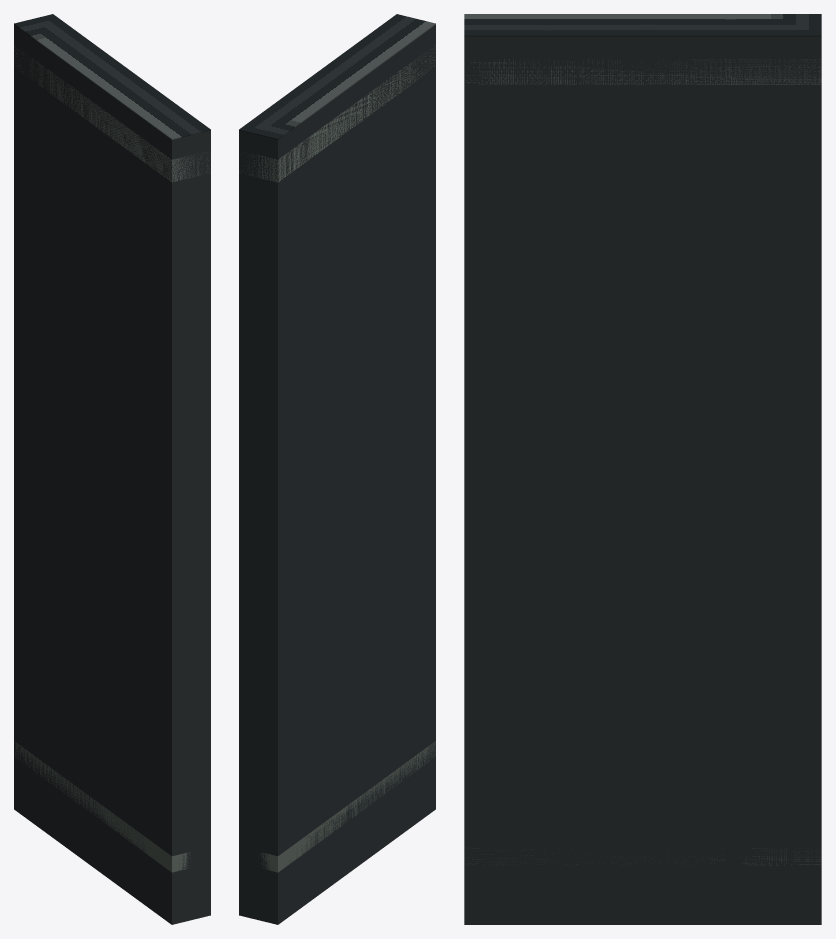
The model's file is CMU3DInteriorVehicleAPCCornerSmallR.glb.
The picture shows the model from 3 angles, left to right: view 1: azimuth 30°, elevation 25°; view 2: azimuth 150°, elevation 25°; view 3: azimuth 270°, elevation 25°; orthographic projection. The views are drawn at different scales.
Parts seen in each view (by area): view 1: cabin bulkhead, cabin bulkhead source finish, upper armor trim, lower armor trim; view 2: cabin bulkhead, cabin bulkhead source finish, upper armor trim, lower armor trim; view 3: cabin bulkhead, cabin bulkhead source finish, upper armor trim.
Part boxes in pixels (box(x1,y1,x2,y2)): cabin bulkhead: box(14, 25, 210, 924); cabin bulkhead source finish: box(14, 14, 210, 139); upper armor trim: box(14, 45, 210, 182); lower armor trim: box(14, 742, 190, 872); cabin bulkhead: box(239, 25, 435, 924); cabin bulkhead source finish: box(239, 14, 435, 139); upper armor trim: box(239, 45, 435, 182); lower armor trim: box(256, 741, 435, 872); cabin bulkhead: box(464, 36, 821, 924); cabin bulkhead source finish: box(464, 14, 821, 36); upper armor trim: box(467, 59, 821, 84).
Bounding box in the file's own units: 0.125 × 2.4 × 0.875.
Materials: 4 (1 with a texture image).
